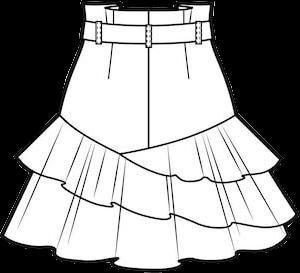Hemline: (14, 156, 298, 229), (0, 232, 290, 271), (119, 154, 282, 184)
Waistline: (59, 112, 237, 155), (81, 0, 210, 11), (82, 17, 209, 27), (81, 37, 213, 46)
